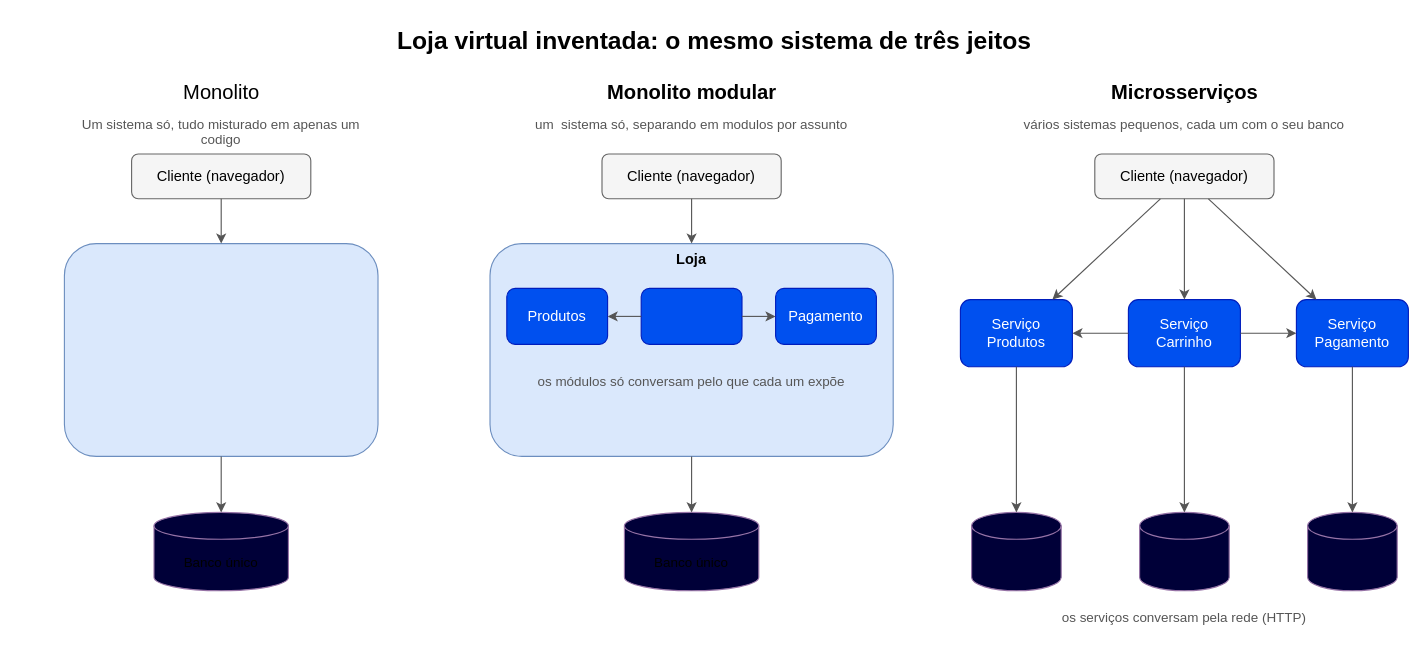
This 1428x654 diagram has some shape labels left out. Each missing label, with the box of its shape:
Banco Carrinho: (1138, 511, 1229, 591)
Banco Pagamento: (1306, 511, 1397, 591)
Banco Produtos: (970, 511, 1061, 591)
Carrinho: (640, 287, 742, 344)
Loja produtos, carrinho e pagamento misturados no mesmo código: (63, 242, 378, 456)
